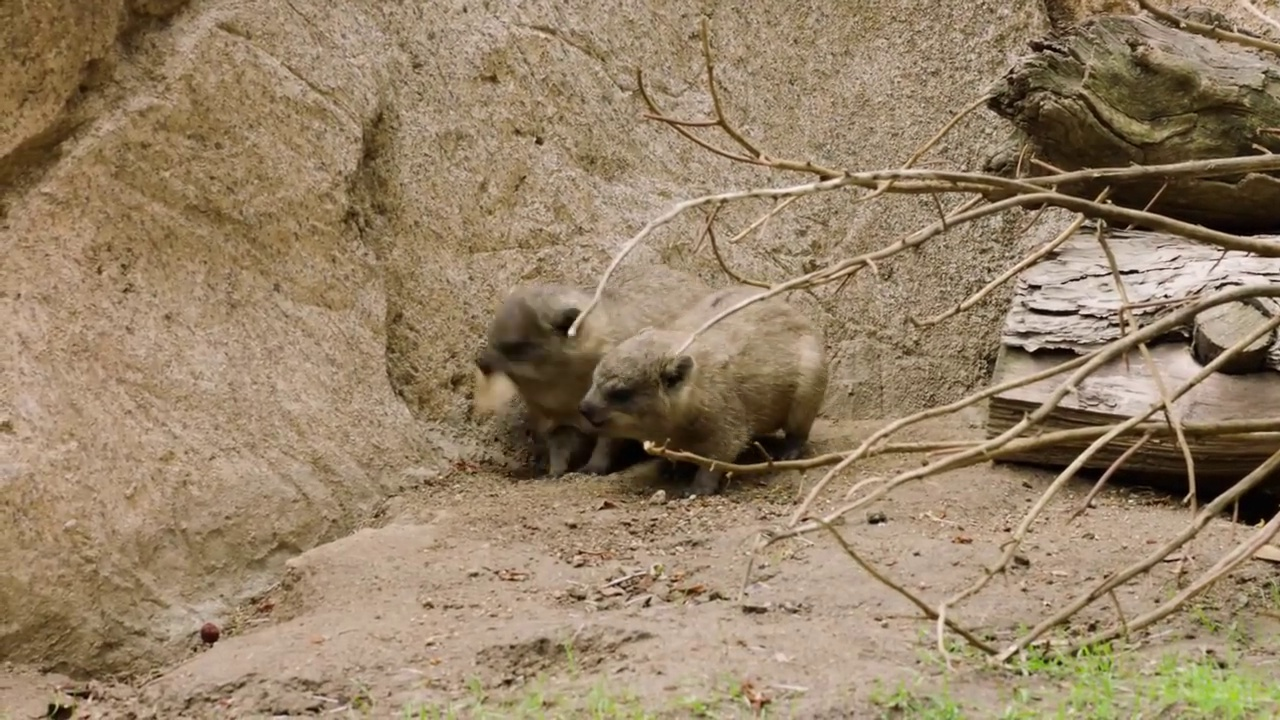Rock Hyrex: (472, 269, 718, 485), (596, 286, 826, 476)
